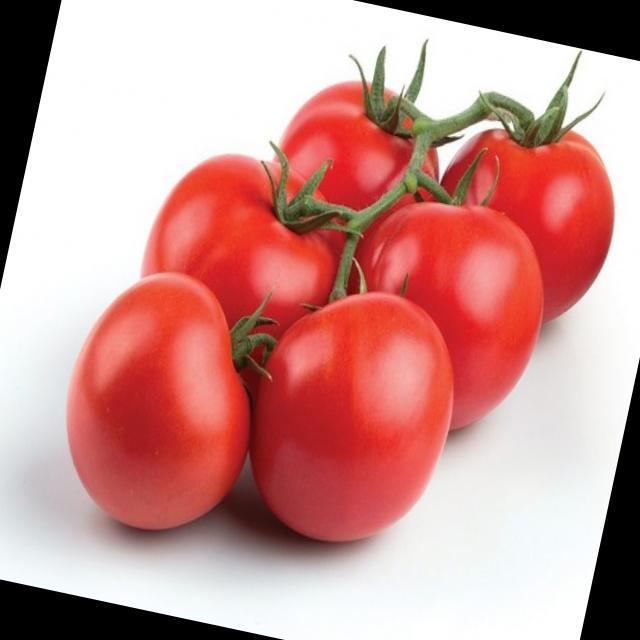TOMATO: (322, 175, 570, 458), (228, 272, 470, 560), (47, 252, 276, 536), (415, 76, 640, 335), (137, 139, 358, 354), (262, 54, 458, 236)
